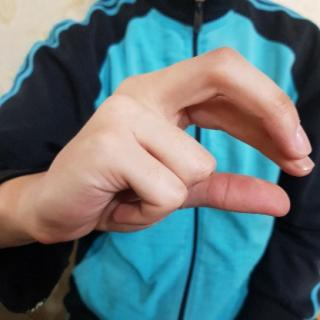DHELL: (38, 41, 320, 246)
